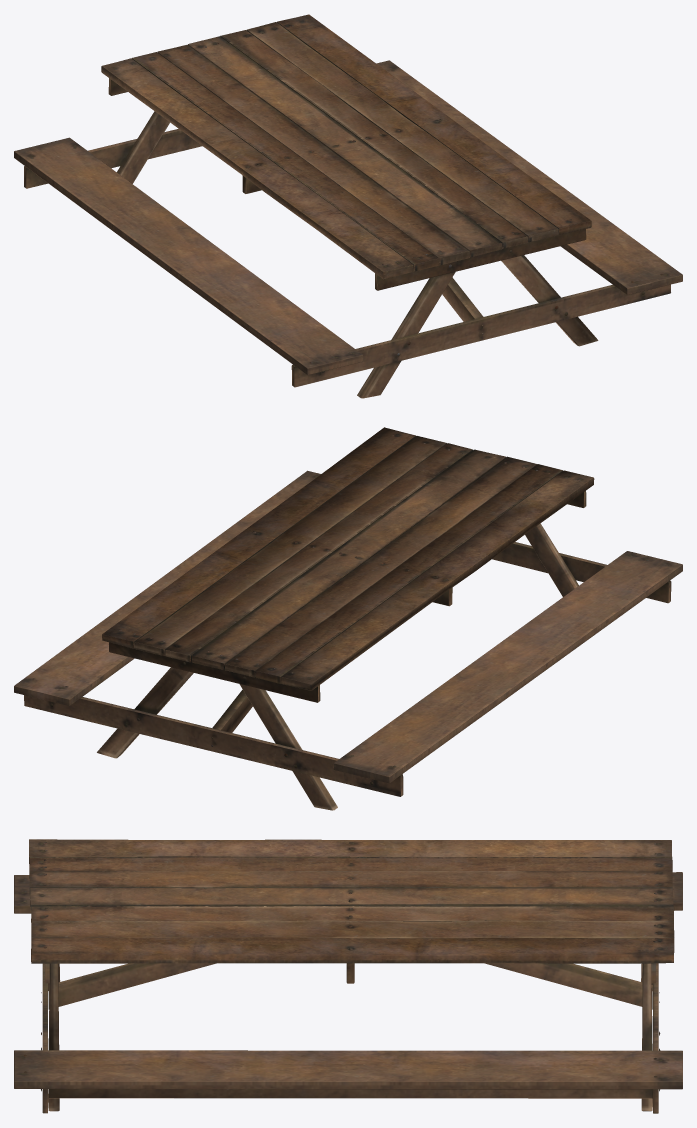
Rendered from ph_picnic_table.fbx.
The picture shows the model from 3 angles, top to bottom: view 1: azimuth 30°, elevation 25°; view 2: azimuth 150°, elevation 25°; view 3: azimuth 270°, elevation 25°; orthographic projection. The views are drawn at different scales.
Parts seen in each view (by area): view 1: ph_picnic_table_LOD0; view 2: ph_picnic_table_LOD0; view 3: ph_picnic_table_LOD0.
Part boxes in pixels (x1,y1,x2,y2): ph_picnic_table_LOD0: [14, 14, 682, 398]; ph_picnic_table_LOD0: [14, 427, 682, 810]; ph_picnic_table_LOD0: [14, 839, 682, 1113].
Size of what is drawn, in the model's own units: 2.24 by 0.7456 by 3.02.
